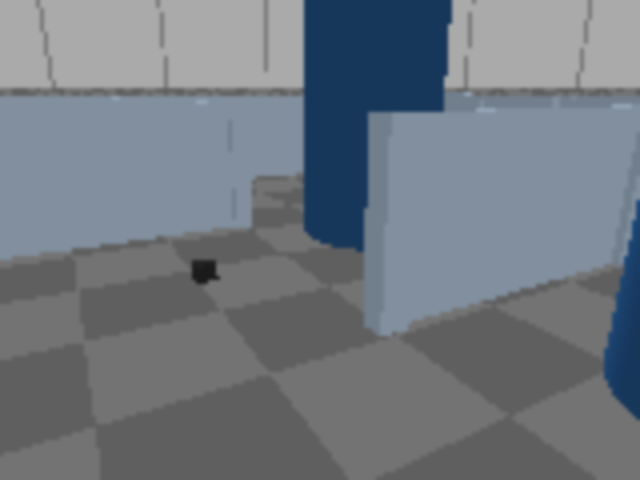puck: (190, 258, 218, 284)
